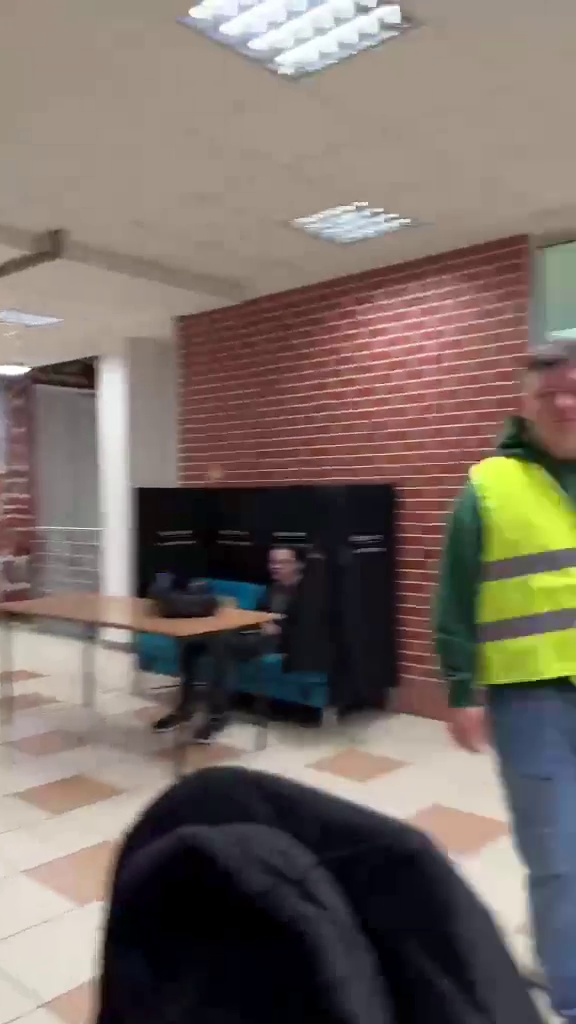no vest: (164, 534, 319, 755)
vest: (441, 324, 576, 1003)
